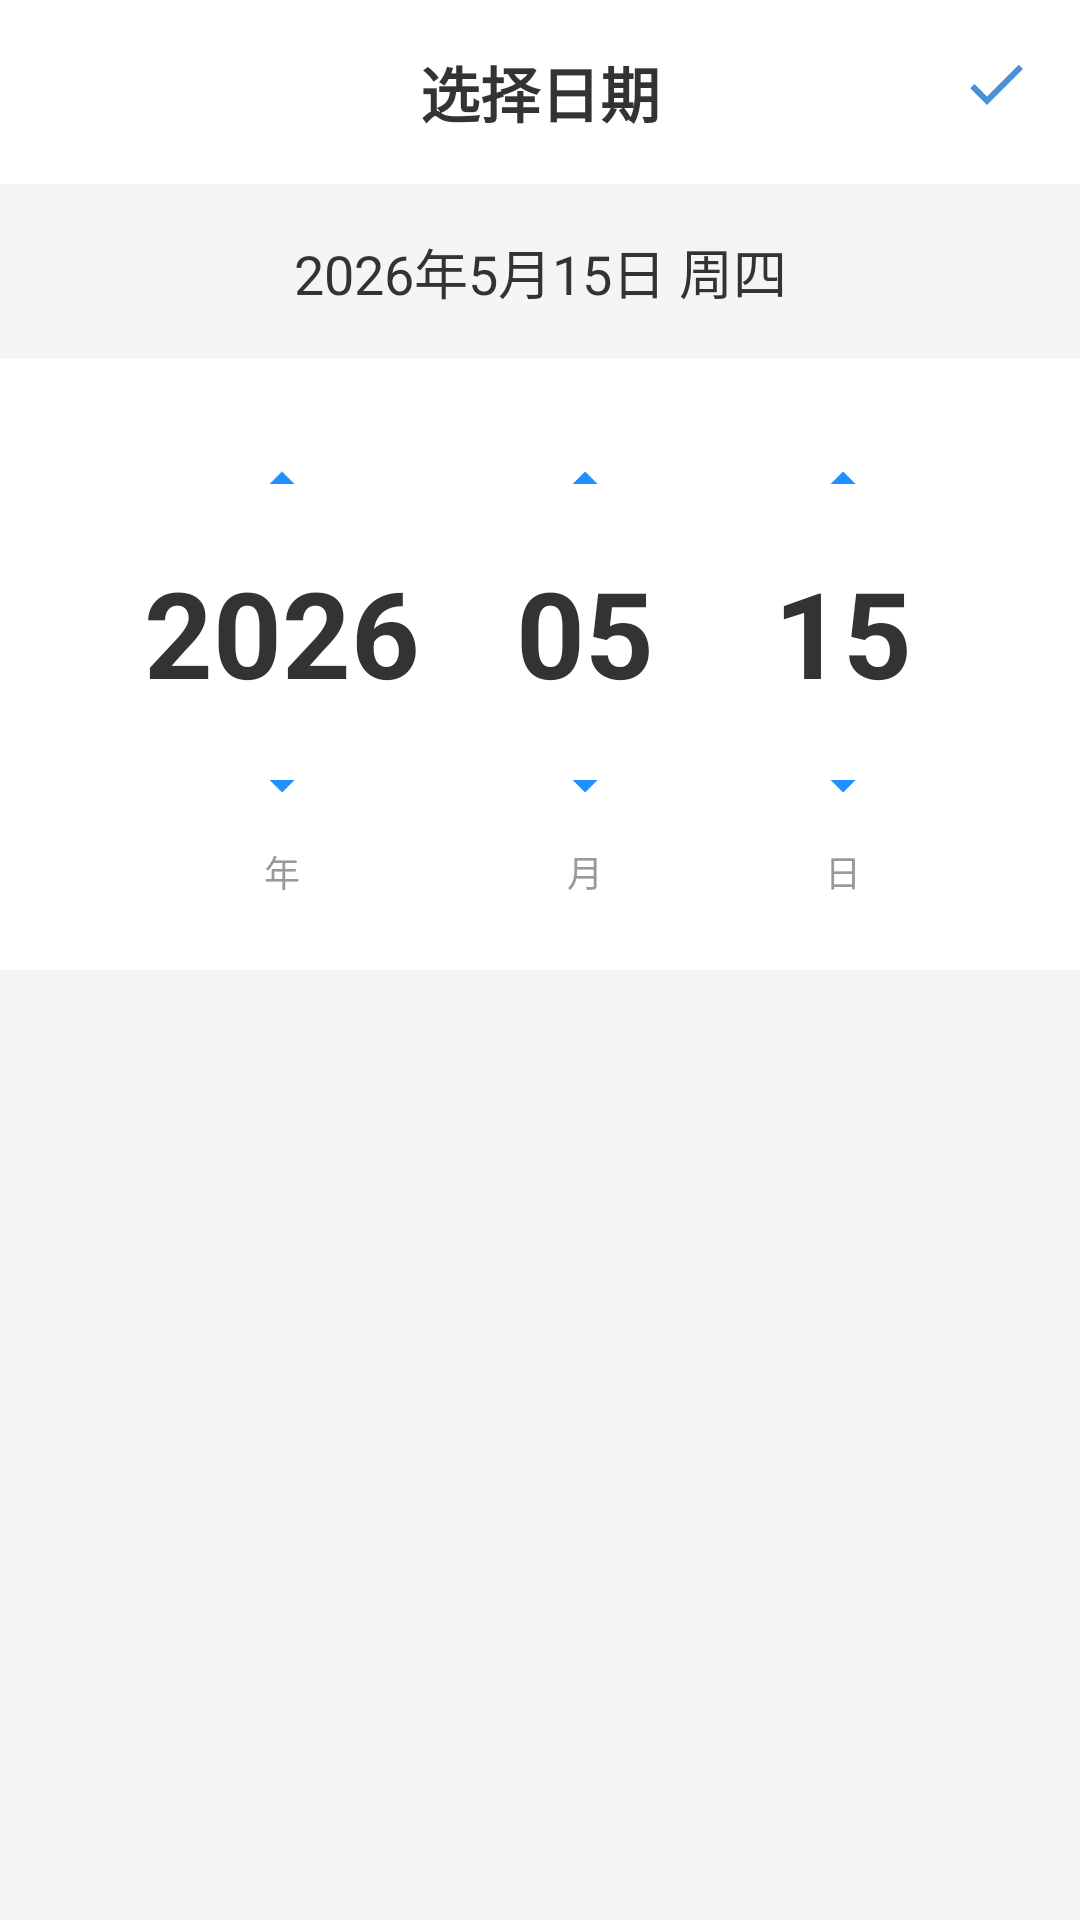

Icons on this 1080px×1920px Android screen, each with the point to tap as [x,y]:
arrow down: [282,786], [585,786], [843,786]
arrow up: [282,477], [585,477], [843,477]
check: [996,85]
